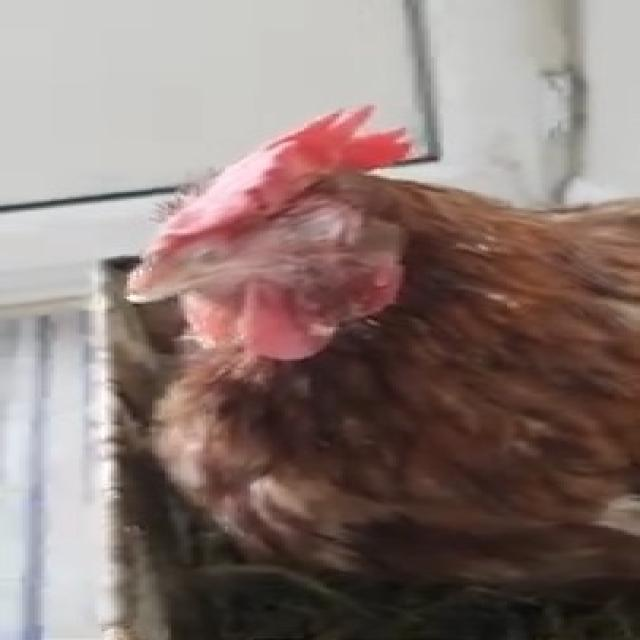Breathing: (120, 101, 637, 606)
